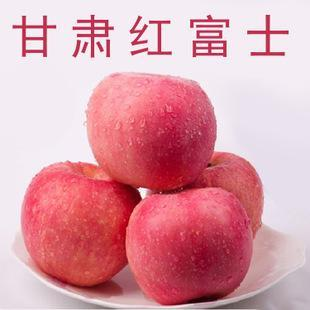apple: (83, 74, 215, 195), (17, 159, 141, 285), (124, 189, 255, 303)
